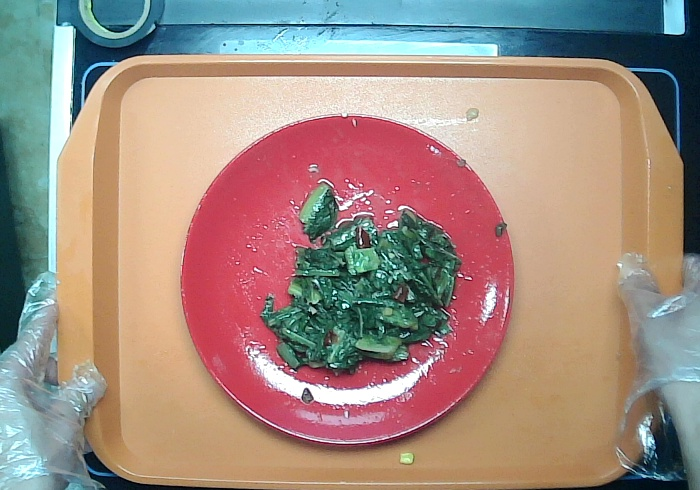HZYJPL-Hong_Se_Yuan_Pan: (178, 110, 516, 448)
